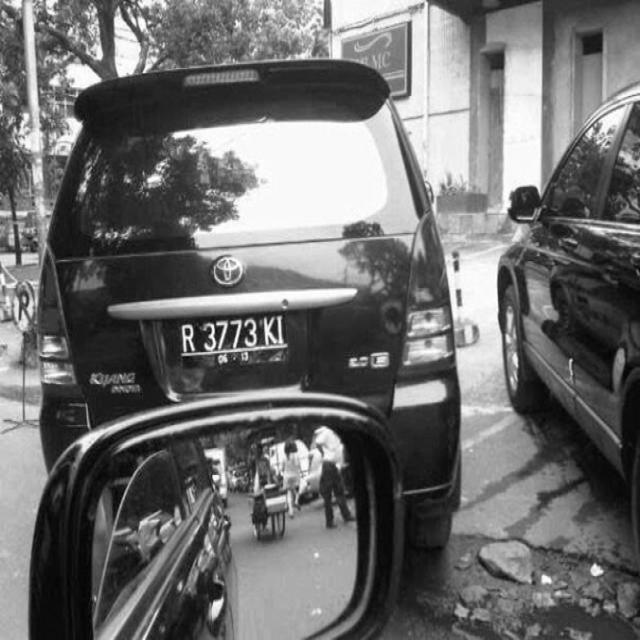clone-license-plate: (179, 318, 289, 357)
